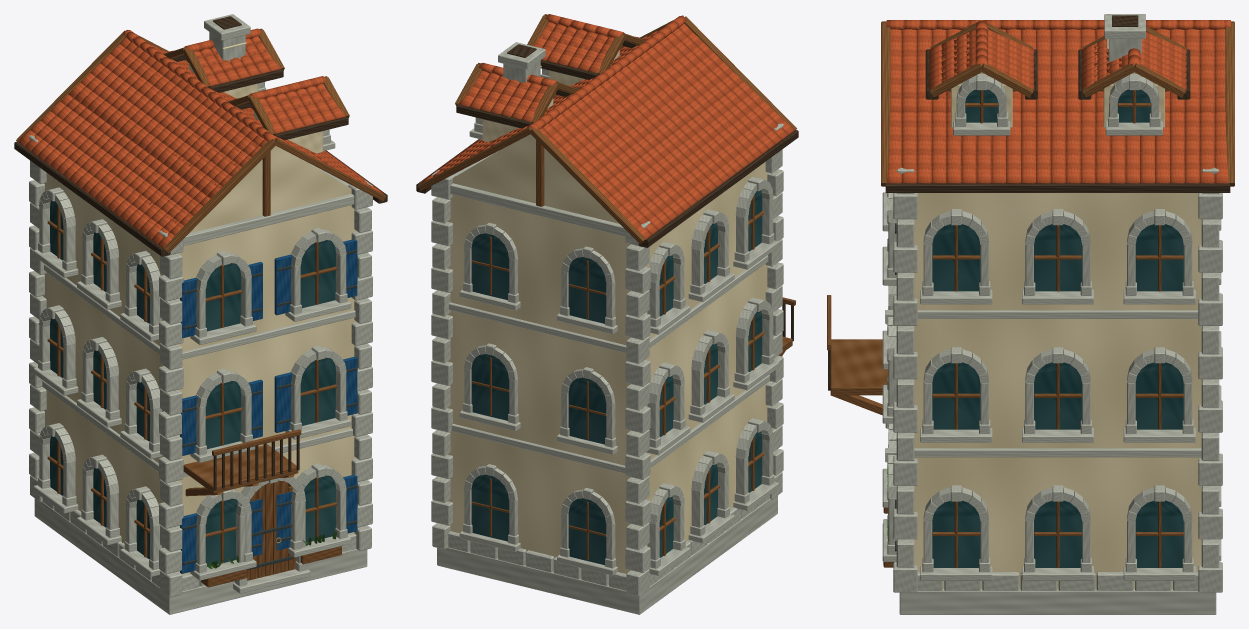
Rendered from townhouse_b.glb.
3 views of the same model, side by side, from view 1: azimuth 30°, elevation 25°; view 2: azimuth 150°, elevation 25°; view 3: azimuth 270°, elevation 25° (orthographic). The views are drawn at different scales.
Parts seen in each view (by area): view 1: townhouse_b_Structure, townhouse_b_Detail, townhouse_b_Roof, townhouse_b_Joinery, townhouse_b_Glazing, townhouse_b_Metalwork; view 2: townhouse_b_Structure, townhouse_b_Roof, townhouse_b_Detail, townhouse_b_Glazing, townhouse_b_Joinery; view 3: townhouse_b_Structure, townhouse_b_Roof, townhouse_b_Detail, townhouse_b_Glazing, townhouse_b_Joinery.
Boxes of the visible parts, box(x1,y1,x2,y2) form: townhouse_b_Structure: box(29, 14, 372, 614); townhouse_b_Detail: box(33, 82, 351, 593); townhouse_b_Roof: box(18, 28, 383, 248); townhouse_b_Joinery: box(14, 28, 387, 587); townhouse_b_Glazing: box(50, 200, 335, 566); townhouse_b_Metalwork: box(182, 249, 357, 569); townhouse_b_Structure: box(431, 42, 783, 614); townhouse_b_Roof: box(420, 14, 794, 239); townhouse_b_Detail: box(459, 68, 778, 575); townhouse_b_Glazing: box(471, 190, 762, 565); townhouse_b_Joinery: box(416, 14, 798, 560); townhouse_b_Structure: box(893, 14, 1222, 614); townhouse_b_Roof: box(886, 20, 1230, 183); townhouse_b_Detail: box(882, 74, 1221, 580); townhouse_b_Glazing: box(932, 89, 1183, 567); townhouse_b_Joinery: box(827, 20, 1234, 567).
Bounding box in the file's own units: 5.74 × 11.75 × 7.62.
Materials: 4 (4 with a texture image).
